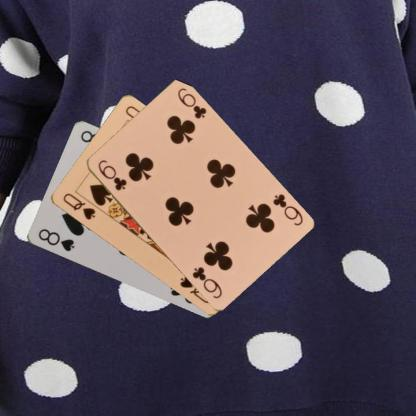6c: (269, 190, 304, 228), (94, 157, 127, 192)
8s: (35, 226, 75, 253)
Qs: (60, 190, 96, 222)
